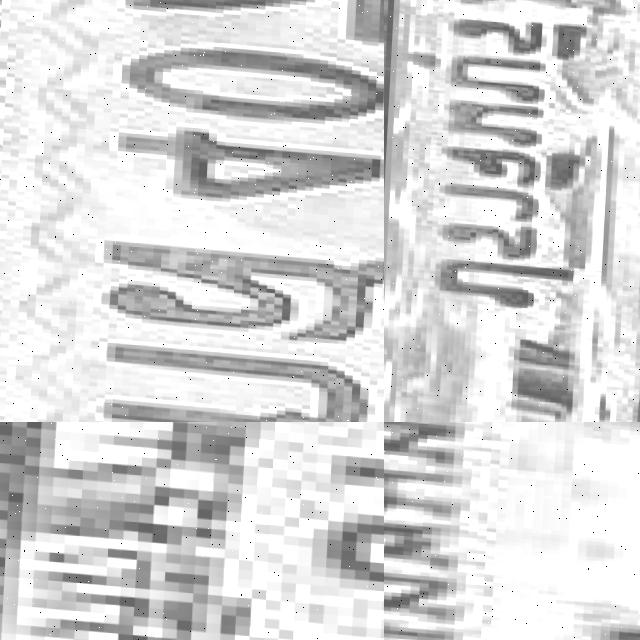license-plate: (0, 0, 384, 422), (384, 0, 640, 422), (0, 422, 384, 640), (384, 422, 640, 640)
